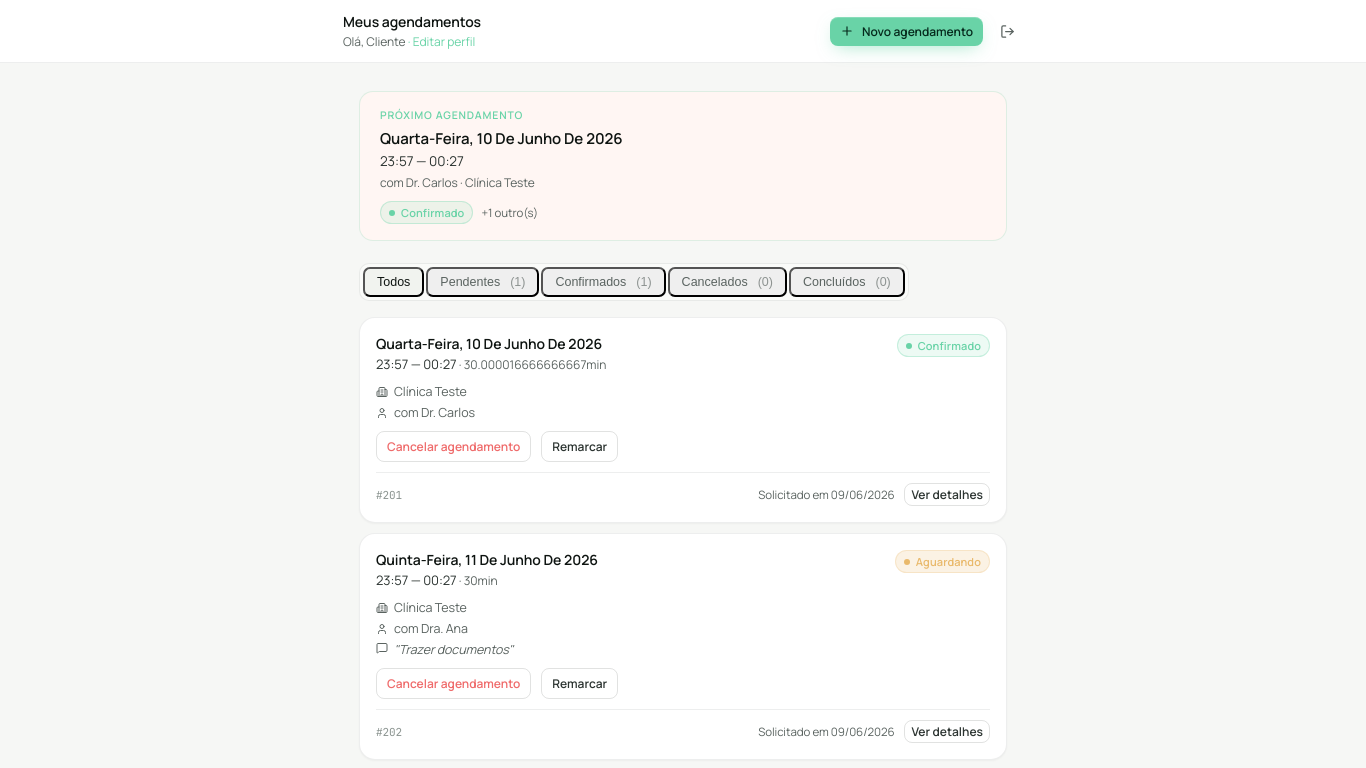
Test: MyAppointmentsPage — novo agendamento (modal de seleção de clínica) › abre o modal de seleção de clínica ao clicar em "Novo agendamento"
This screenshot has width=1366, height=768.
Click the button "Novo agendamento" at {"x": 907, "y": 32}, box [830,17,983,46]
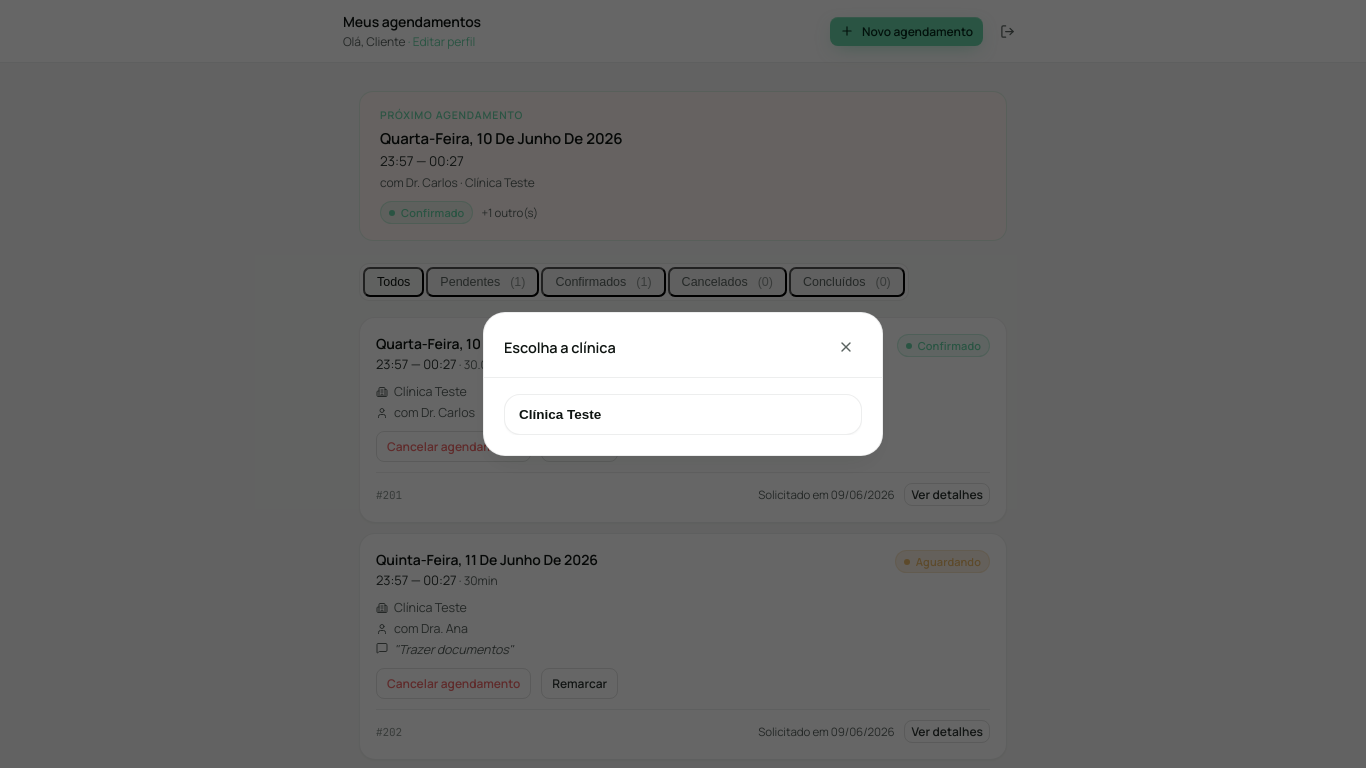
Expected: the text "Escolha a clínica" is shown, [504,338,616,356]
